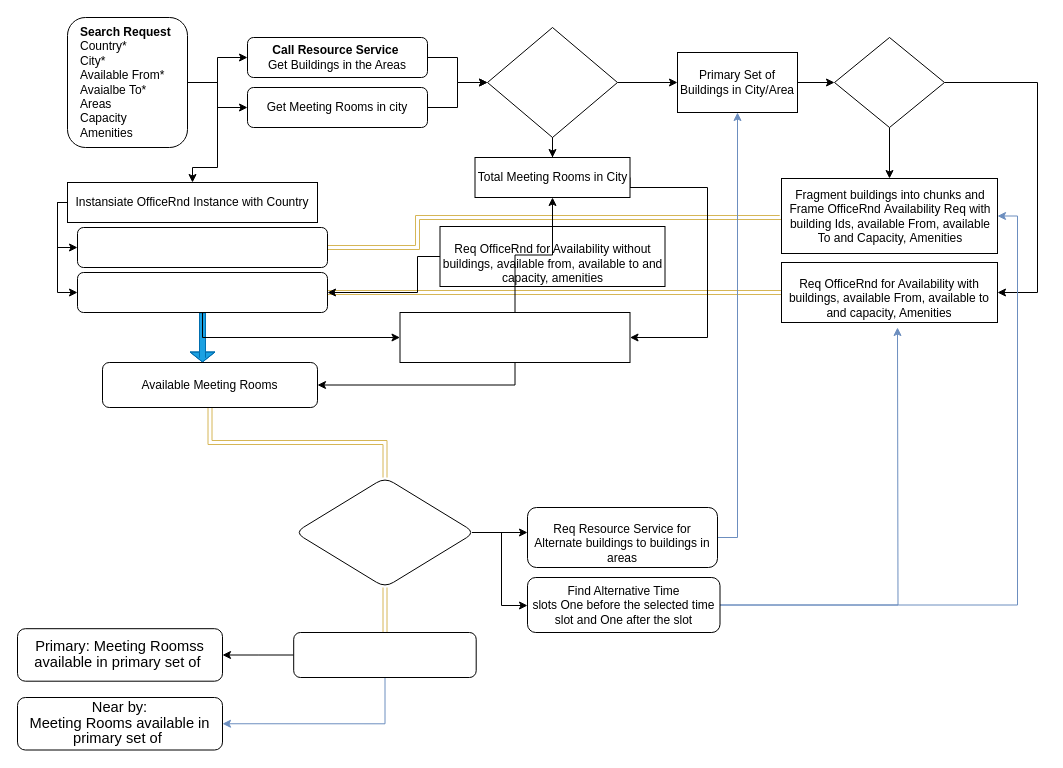
The diagram is 1063 pixels wide and 768 high, and some of its shapes have lost their labels. The shapes that lost their labels are listed below. From the top down, each one's centre as x and y in pixels, then its label:
point 552,82: Buildings/Meeting Rooms
point 889,82: If Buildings > limit
point 202,247: OfficeRnd concurrent Requests for availability
point 202,292: Get Available Meeting Rooms
point 514,337: Intersection of Available Meeting Rooms
point 384,532: Available Meeting Rooms > 2
point 384,655: Req Correlation Service for Equivalent CMS/Drupal Id’s of available MRs
